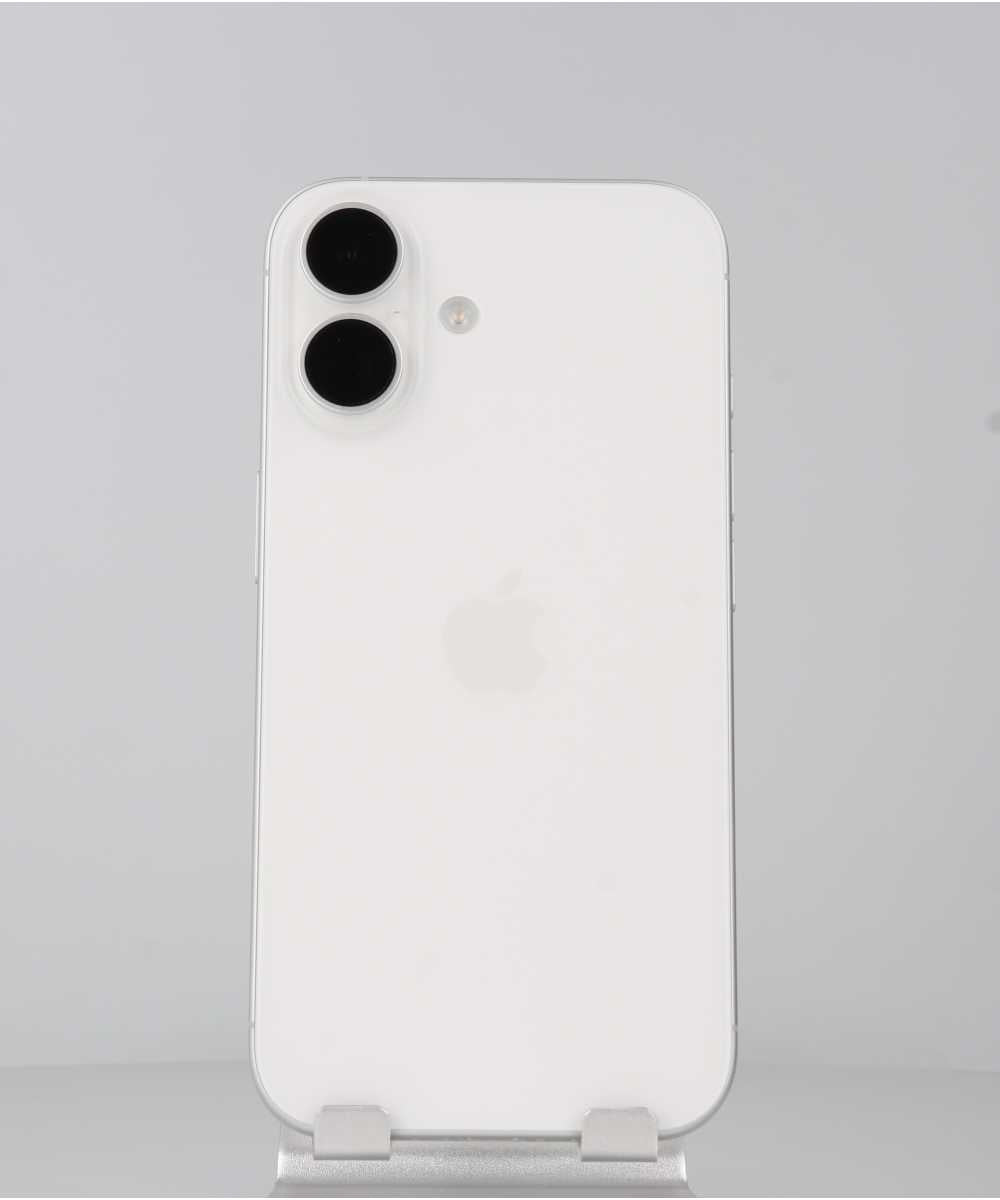iphone16_white: (234, 150, 766, 1141), (272, 197, 501, 429)
